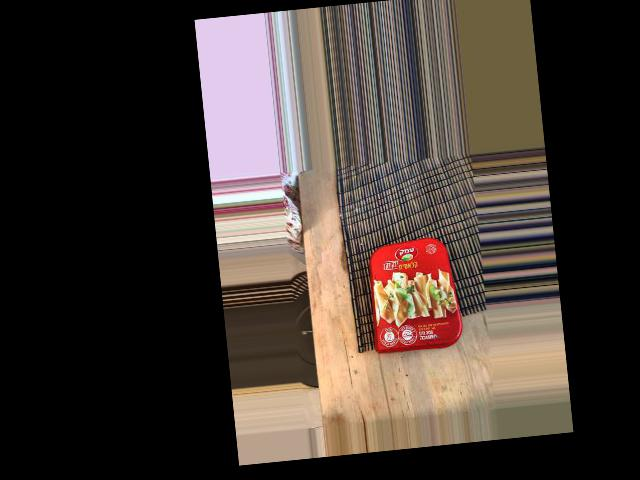cheese: (366, 185, 494, 291)
